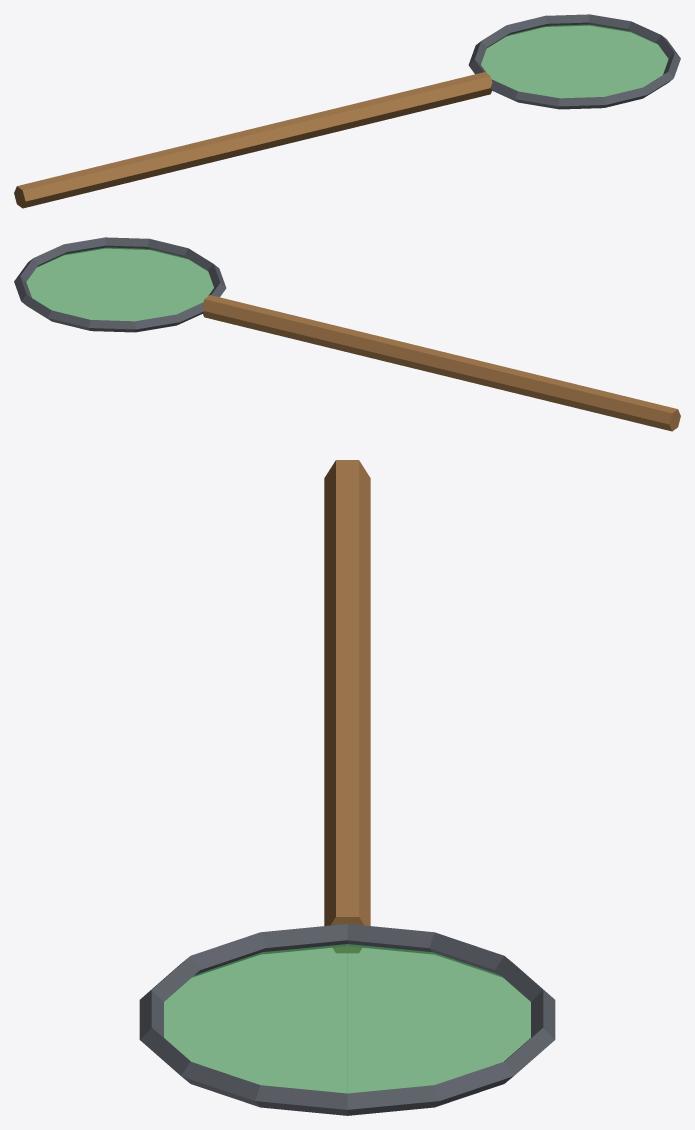
File: fishing_net.glb
The picture shows the model from 3 angles, top to bottom: view 1: azimuth 30°, elevation 25°; view 2: azimuth 150°, elevation 25°; view 3: azimuth 270°, elevation 25°; orthographic projection. The views are drawn at different scales.
Parts seen in each view (by area): view 1: pole_net_pole, mesh_net_mesh, hoop_net_hoop; view 2: pole_net_pole, mesh_net_mesh, hoop_net_hoop; view 3: mesh_net_mesh, pole_net_pole, hoop_net_hoop.
Boxes of the visible parts, <box> form: pole_net_pole: <box>14,72,492,208</box>; mesh_net_mesh: <box>481,24,668,98</box>; hoop_net_hoop: <box>468,14,680,109</box>; pole_net_pole: <box>202,295,680,431</box>; mesh_net_mesh: <box>26,247,213,321</box>; hoop_net_hoop: <box>14,237,226,332</box>; mesh_net_mesh: <box>164,944,530,1093</box>; pole_net_pole: <box>324,460,370,952</box>; hoop_net_hoop: <box>139,924,555,1115</box>.
Bounding box in the file's own units: 0.968 × 0.026 × 0.2691.
